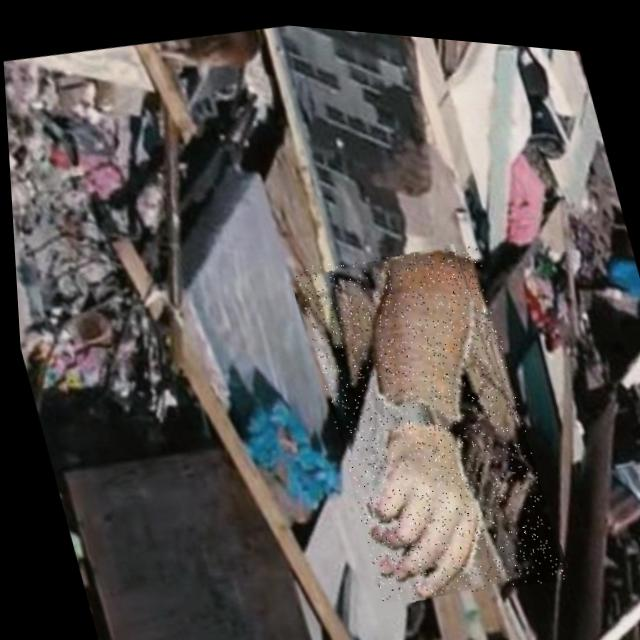Person in Rubble: (287, 223, 560, 609)
